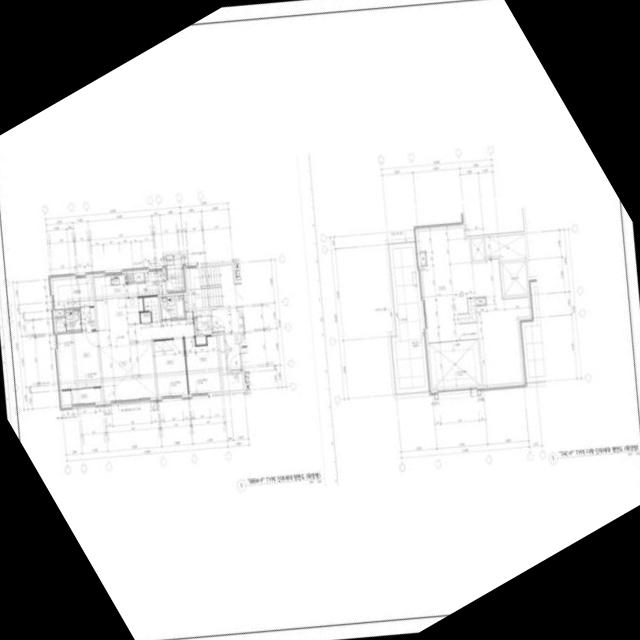background: (0, 0, 640, 640)
space_balconi: (393, 247, 426, 389), (164, 253, 185, 292), (138, 271, 166, 296), (71, 388, 102, 404)
space_bedroom: (57, 331, 101, 389), (185, 336, 221, 394), (154, 339, 188, 396)
space_dressroom: (53, 277, 94, 309)
space_front: (194, 310, 212, 336), (196, 336, 206, 345)
space_kitchen: (94, 274, 143, 330)
space_living_room: (99, 312, 194, 401), (140, 312, 151, 323)
space_other: (473, 259, 530, 386), (418, 227, 480, 343), (429, 339, 482, 390), (485, 235, 527, 261), (502, 262, 528, 296), (212, 305, 238, 333), (81, 308, 96, 330), (471, 238, 485, 260), (62, 391, 72, 405), (134, 273, 144, 282), (420, 253, 426, 265), (476, 298, 485, 305), (55, 310, 64, 317), (184, 295, 188, 310)
space_staircase: (187, 265, 236, 309), (458, 298, 476, 324), (144, 297, 160, 323)
space_toilet: (160, 295, 185, 319), (65, 310, 81, 331), (56, 318, 67, 332)
